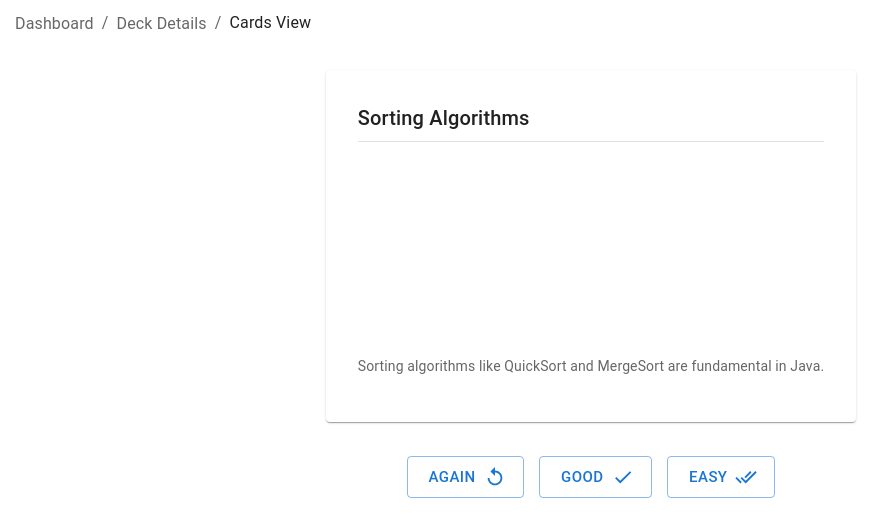
Card view › should change card when clicking a button
Check: the heading "Sorting Algorithms" is shown, box [358,106,530,130]
Check: the text "Sorting algorithms like QuickSort and MergeSort are fundamental in Java." is shown, box [358,356,824,377]
Click the button with test id "again-button": {"x": 465, "y": 477} [406,456,524,498]
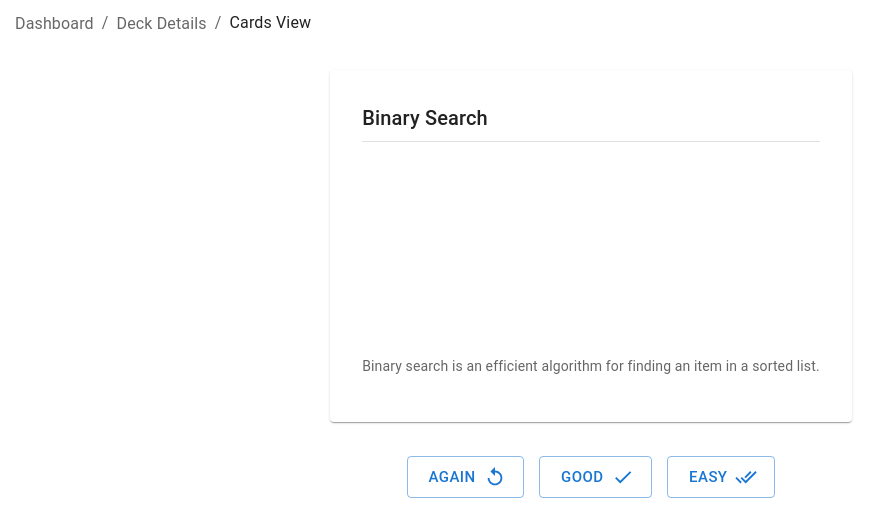
Check: the heading "Binary Search" is shown, box [362,106,488,130]
Check: the text "Binary search is an efficient algorithm for finding an item in a sorted list." is shown, box [362,356,820,377]
